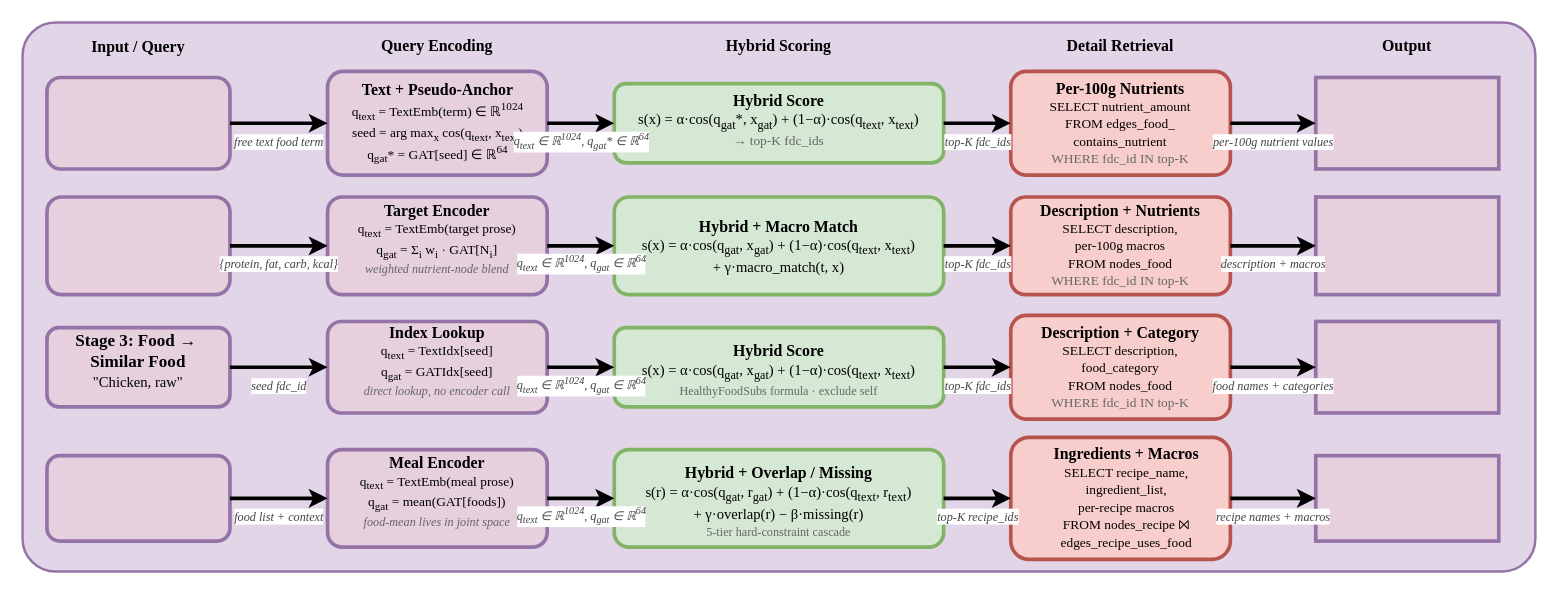
Some shapes in this 1557 by 593 pixel diagram are drawn without their labels. Each missing label, with the box of its shape:
Gap-filling Foods Chicken breast Greek yogurt Spinach …: (1313, 195, 1500, 296)
Meal / Recipe Teriyaki Salmon w/ Rice & Spinach ingredients · macros: (1313, 453, 1500, 542)
Nutrients carbs: 65 g fat: 7 g protein: 6 g …: (1313, 75, 1500, 170)
Stage 1: Food → Nutrition "126g of maize flour": (45, 75, 231, 170)
Stage 2: Nutrition → Food {protein:30g, fat:20g, carb:60g, kcal:500}: (45, 195, 231, 296)
Stage 4: Meal Composition Salmon, rice, spinach + dislikes, macros, tag: (45, 453, 231, 542)
Substitutes Turkey Salmon, Cod, Duck …: (1313, 319, 1500, 414)
